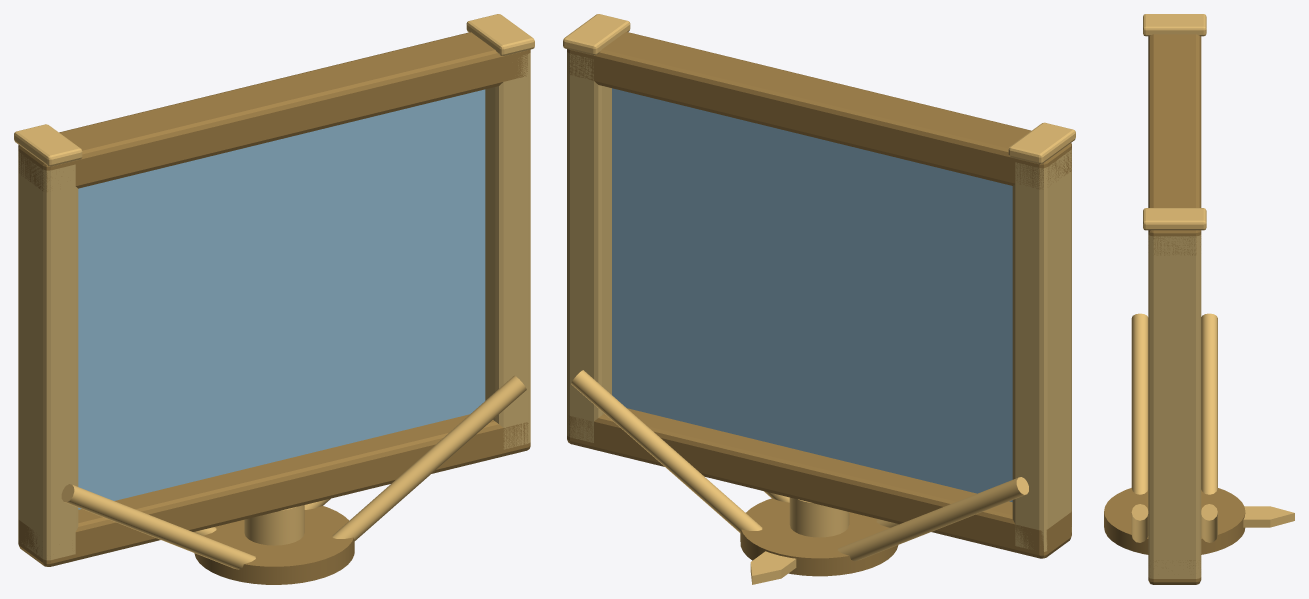
Rendered from mirror-head-small-v01.glb.
The picture shows the model from 3 angles, left to right: view 1: azimuth 30°, elevation 25°; view 2: azimuth 150°, elevation 25°; view 3: azimuth 270°, elevation 25°; orthographic projection. The views are drawn at different scales.
Parts seen in each view (by area): view 1: Shadow mirror glass 0, Shadow brass 2, Shadow gold 1, Shadow brass light 3; view 2: Shadow mirror glass 0, Shadow brass 2, Shadow gold 1, Shadow brass light 3; view 3: Shadow gold 1, Shadow brass 2, Shadow brass light 3.
Boxes of the visible parts, box(x1,y1,x2,y2) form: Shadow mirror glass 0: box(78, 89, 485, 509); Shadow brass 2: box(18, 32, 530, 584); Shadow gold 1: box(18, 53, 530, 560); Shadow brass light 3: box(14, 14, 534, 569); Shadow mirror glass 0: box(612, 88, 1012, 502); Shadow brass 2: box(567, 32, 1071, 576); Shadow gold 1: box(567, 52, 1071, 551); Shadow brass light 3: box(563, 14, 1075, 584); Shadow gold 1: box(1148, 234, 1201, 578); Shadow brass 2: box(1104, 34, 1245, 584); Shadow brass light 3: box(1131, 14, 1294, 542).
Bounding box in the file's own units: 1.4 × 1.28 × 0.54.
